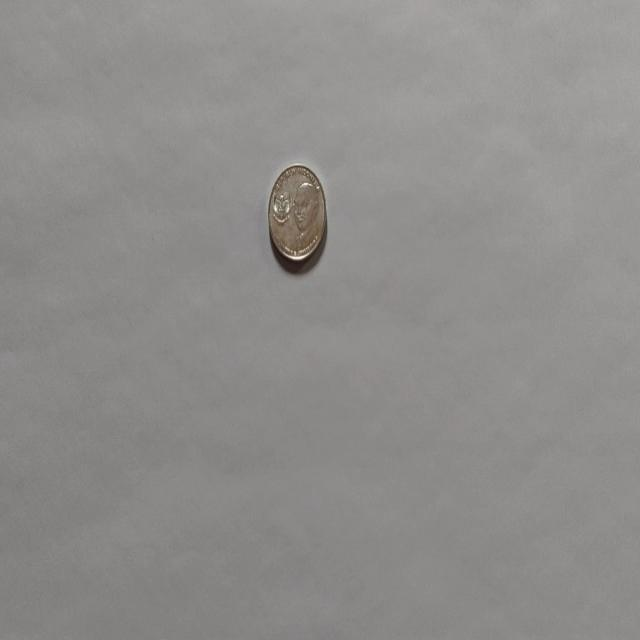lima ratus rupiah: (266, 162, 328, 264)
